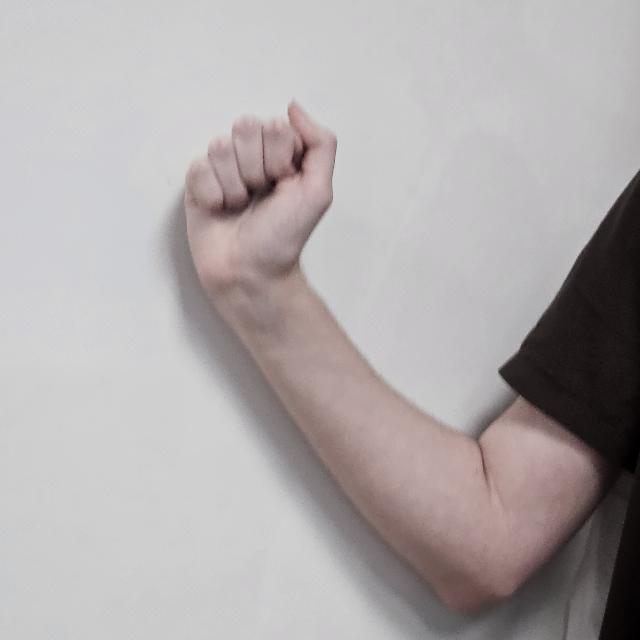Quadro: (181, 101, 343, 291)
